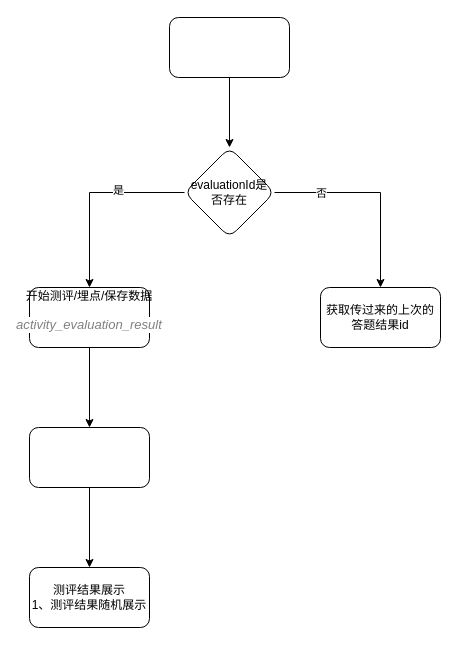
This 458x645 diagram has some shape labels left out. Here are the shapes that lost their labels. From the top down, the centre of each, then its label:
pixel 229 47: 答题模板 提交测评结果
pixel 89 457: 获取题目选项信息
